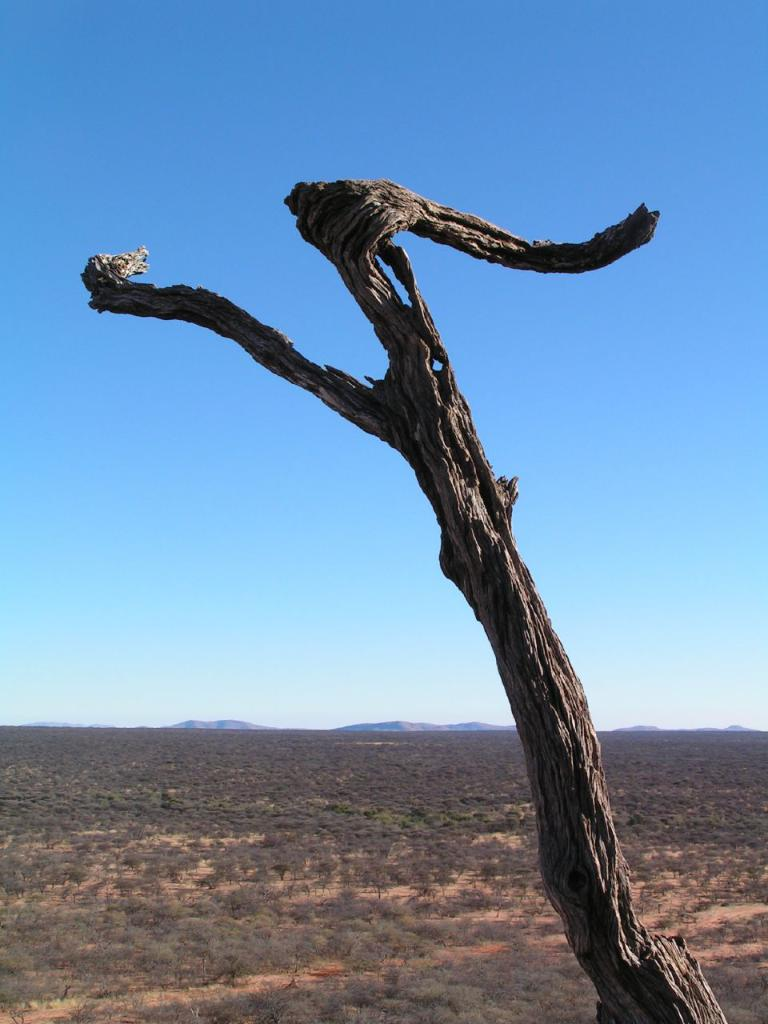Tree: (80, 170, 726, 1023)
